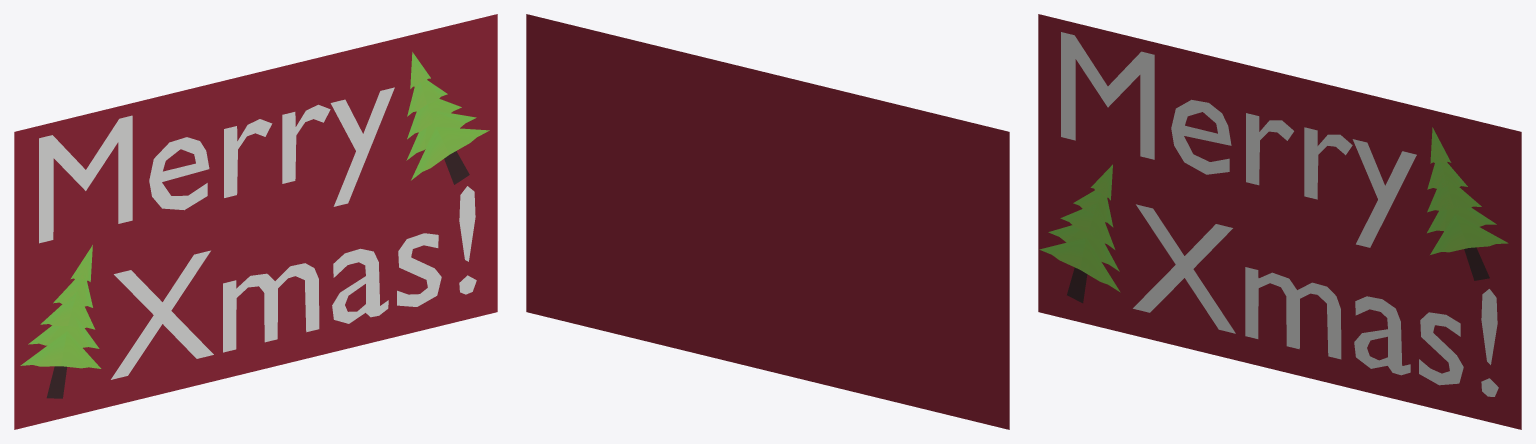
Rendered from xmas_card.fbx.
3 renders of one model, left to right at view 1: azimuth 30°, elevation 25°; view 2: azimuth 150°, elevation 25°; view 3: azimuth 330°, elevation 25°, orthographic.
Visible parts, largest first — view 1: Plane.003; view 2: Plane.003; view 3: Plane.003.
Part boxes in pixels (<box>): Plane.003: <box>14,14,497,429</box>; Plane.003: <box>526,14,1009,429</box>; Plane.003: <box>1038,14,1521,429</box>.
Size of the model in its own units: 23.94 by 14.12 by 0.2128.
